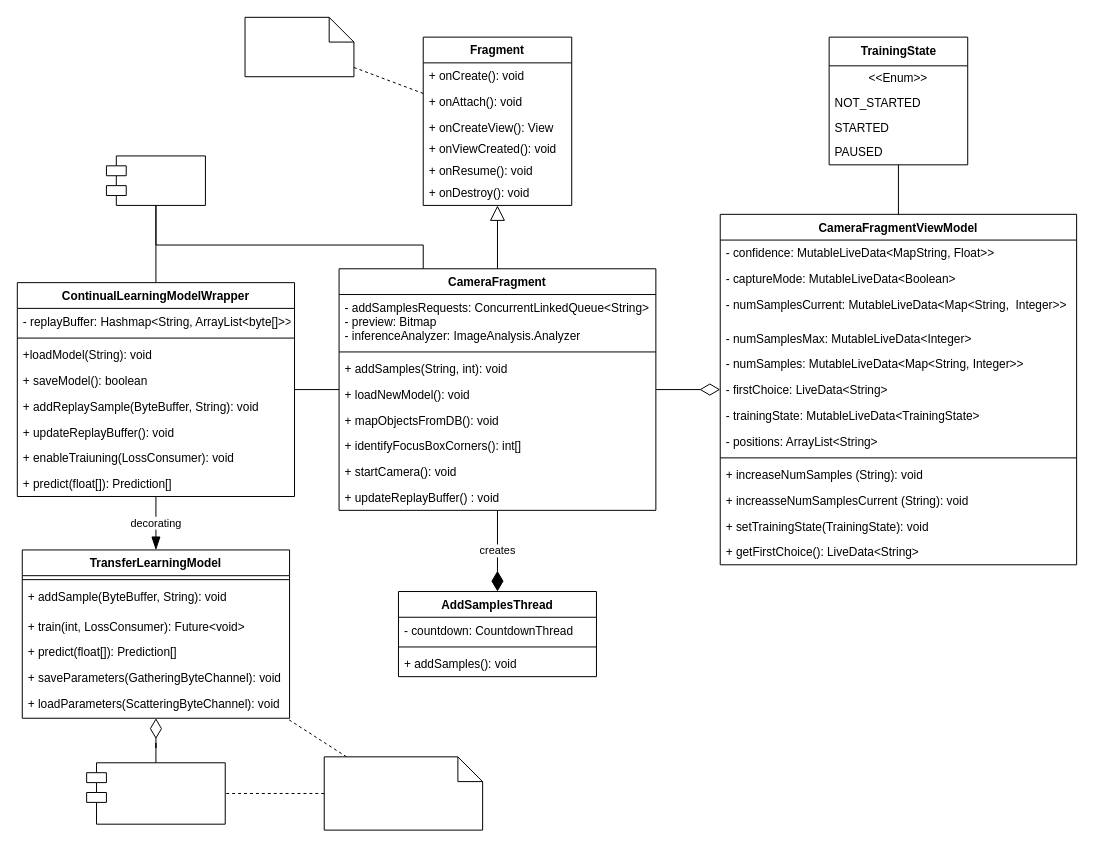
Some shapes in this 1094 by 847 pixel diagram are drawn without their labels. Here are the shapes that lost their labels. From the top down, the centre of each, then its label:
point 299,46: From Android Library
point 155,180: Database Helper
point 155,793: Transfer Learning API
point 403,793: From TensorFlow Lite
